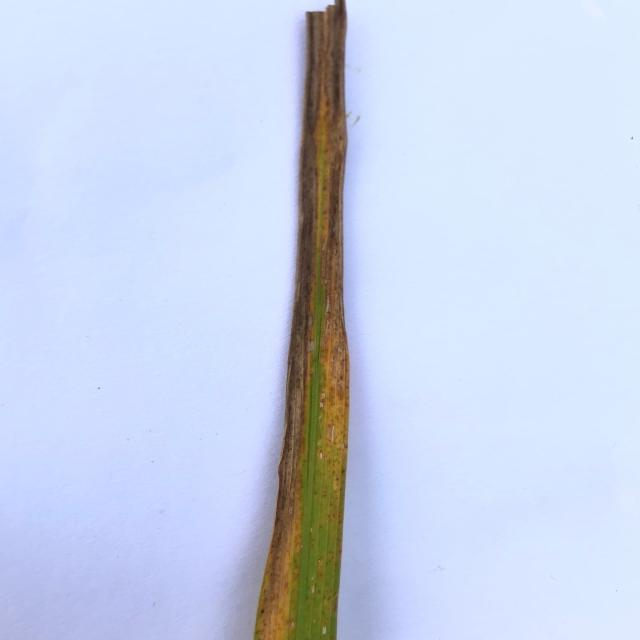Rice Tungro: (221, 1, 404, 640)
